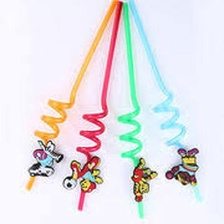drinking_straw: (20, 0, 121, 195), (125, 0, 209, 205), (57, 0, 126, 215), (112, 0, 161, 222)
